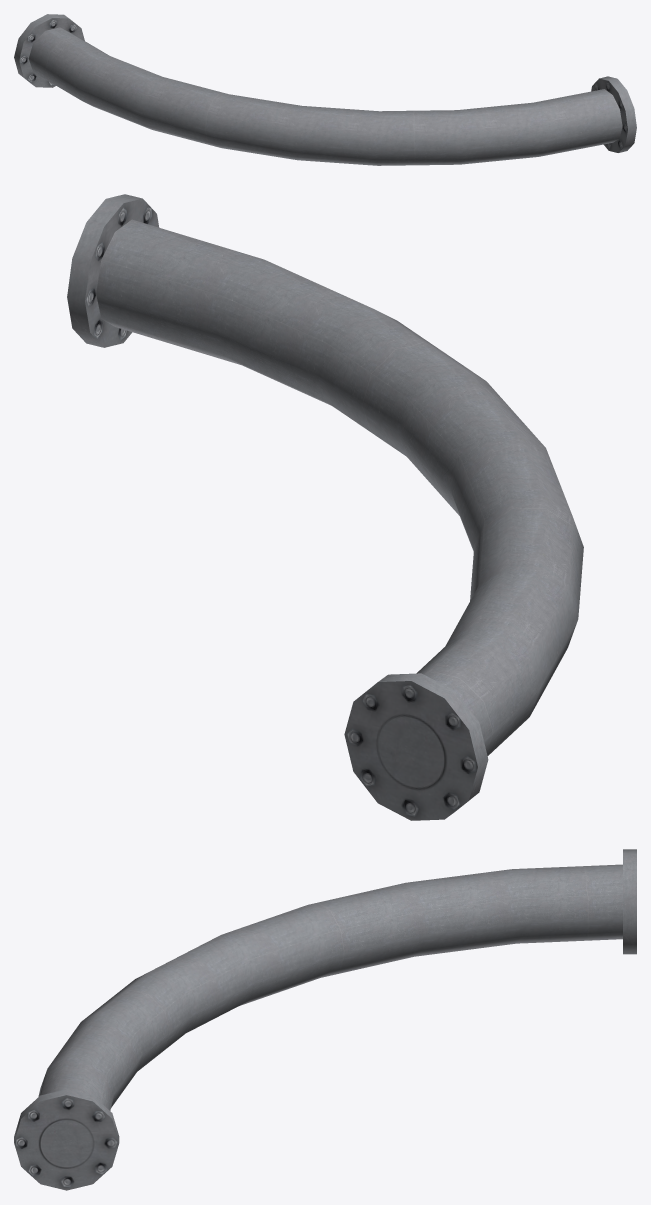
Rendered from p_corner_large.FBX.
3 views of the same model, one above another, from view 1: azimuth 30°, elevation 25°; view 2: azimuth 150°, elevation 25°; view 3: azimuth 270°, elevation 25° (orthographic). The views are drawn at different scales.
Visible parts, largest first — view 1: Cylinder012; view 2: Cylinder012; view 3: Cylinder012.
Boxes of the visible parts, left/top/right/bottom form: Cylinder012: left=14, top=14, right=636, bottom=165; Cylinder012: left=67, top=194, right=583, bottom=820; Cylinder012: left=14, top=849, right=636, bottom=1190.
Bounding box in the file's own units: 177 × 29.97 × 177.
1 material, 1 textured.
